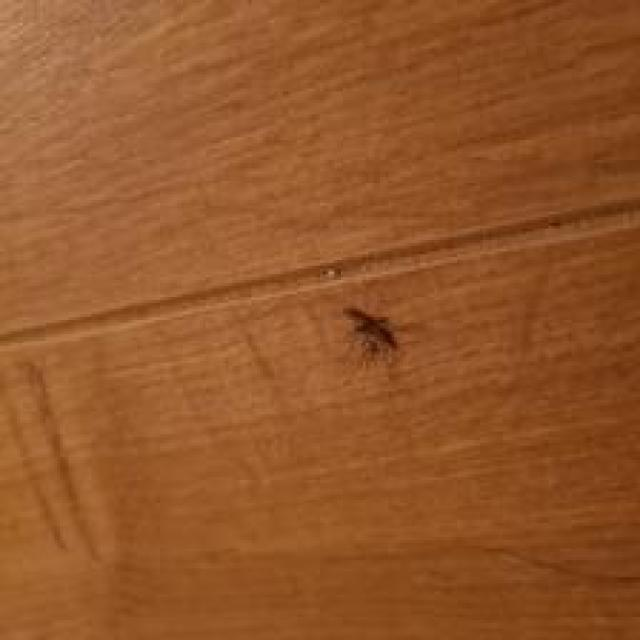Culex: (340, 304, 400, 367)
